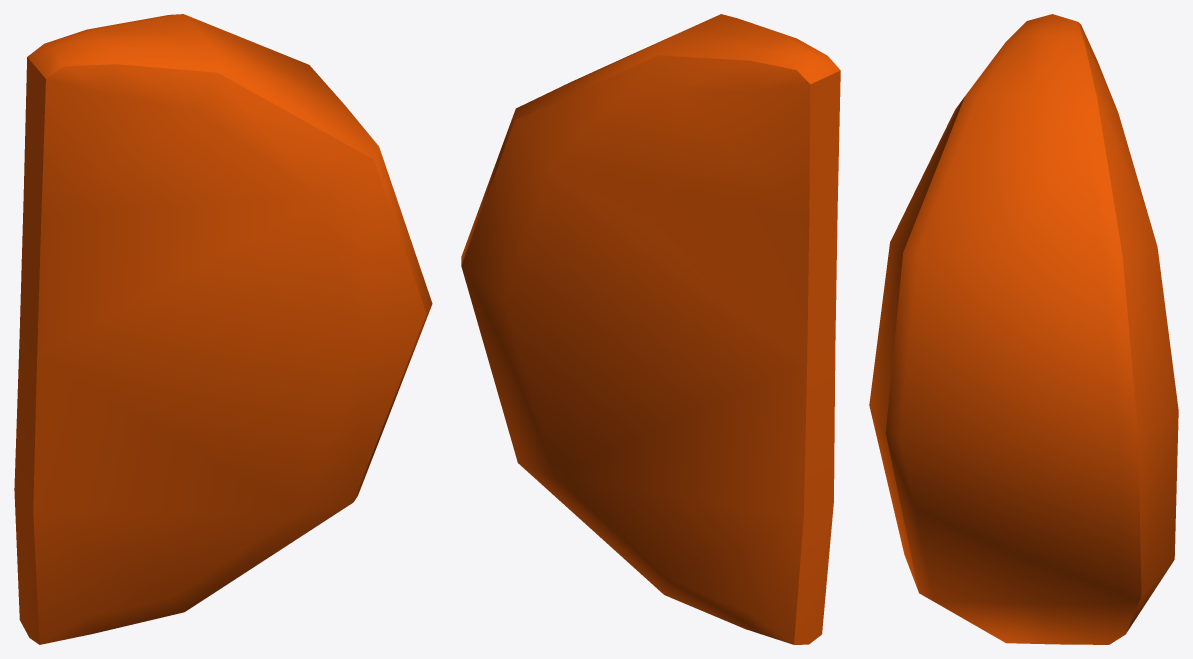
The model's file is p_mesh_hvs_lemonium_chunk_part02.fbx.
The picture shows the model from 3 angles, left to right: view 1: azimuth 30°, elevation 25°; view 2: azimuth 150°, elevation 25°; view 3: azimuth 270°, elevation 25°; orthographic projection. The views are drawn at different scales.
Parts seen in each view (by area): view 1: p_mesh_lemonium_part03.001; view 2: p_mesh_lemonium_part03.001; view 3: p_mesh_lemonium_part03.001.
Part boxes in pixels (box(x1,y1,x2,y2)): p_mesh_lemonium_part03.001: box(14, 14, 432, 644); p_mesh_lemonium_part03.001: box(461, 14, 840, 644); p_mesh_lemonium_part03.001: box(869, 14, 1178, 644).
Bounding box in the file's own units: 1.54 × 2.5 × 1.17.
